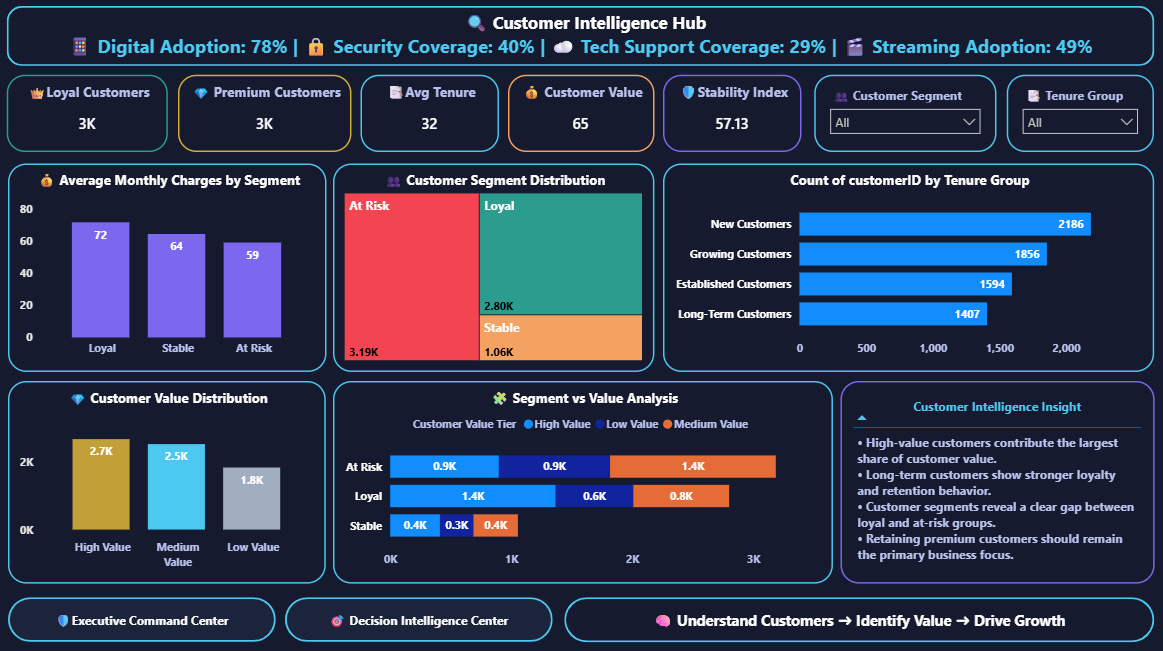

Layout of this report page (visuals, bound fields, positions):
{"tool":"powerbi","page":{"name":"🔍Customer Intelligence Hub","canvas":[1280,720],"ordinal":1},"visuals":[{"type":"textbox","box":[9.6,11,1270.7,42.5],"z":0},{"type":"cardVisual","fields":{"Data":["page 2.Customer Intelligence Bar"]},"box":[4.1,20.6,1270.7,65.9],"z":1000},{"type":"shape","box":[9.6,11,1259.7,65.9],"z":2000},{"type":"cardVisual","title":"👑Loyal Customers","fields":{"Data":["page 2.Loyal Customers"]},"box":[9.6,86.4,177,85.1],"z":3000},{"type":"cardVisual","title":"💎 Premium Customers","fields":{"Data":["page 2.High Value Customers"]},"box":[197.6,86.4,190.7,85.1],"z":4000},{"type":"cardVisual","title":"📑Avg Tenure","fields":{"Data":["page 2.Avg Tenure"]},"box":[397.9,86.4,152.3,85.1],"z":5000},{"type":"cardVisual","title":"💰 Customer Value","fields":{"Data":["page 2.Avg Revenue Per Customer"]},"box":[559.9,86.4,160.5,85.1],"z":6000},{"type":"cardVisual","title":"🛡️Stability Index","fields":{"Data":["page 2.Customer Stability Index"]},"box":[730,86.4,152.3,85.1],"z":7000},{"type":"slicer","fields":{"Values":["Telco-Customer-Churn.Customer Segment"]},"box":[896.1,86.4,200.3,85.1],"z":8000},{"type":"slicer","fields":{"Values":["Telco-Customer-Churn.Tenure Group"]},"box":[1107.4,86.4,161.9,85.1],"z":9000},{"type":"clusteredColumnChart","title":"💎 Customer Value Distribution","fields":{"Category":["Telco-Customer-Churn.Customer Value Tier"],"Y":["CountNonNull(Telco-Customer-Churn.customerID)"]},"box":[11,422.6,348.5,222.3],"z":10000},{"type":"treemap","title":"👥 Customer Segment Distribution","fields":{"Group":["Telco-Customer-Churn.Customer Segment"],"Values":["CountNonNull(Telco-Customer-Churn.customerID)"]},"box":[367.8,183.9,352.7,229.2],"z":11000},{"type":"clusteredBarChart","fields":{"Category":["Telco-Customer-Churn.Tenure Group"],"Y":["CountNonNull(Telco-Customer-Churn.customerID)"]},"box":[730,183.9,539.3,229.2],"z":12000},{"type":"clusteredColumnChart","title":"💰 Average Monthly Charges by Segment","fields":{"Category":["Telco-Customer-Churn.Customer Segment"],"Y":["Avg(Telco-Customer-Churn.MonthlyCharges)"]},"box":[11,183.9,349.9,229.2],"z":13000},{"type":"barChart","title":"🧩 Segment vs Value Analysis","fields":{"Category":["Telco-Customer-Churn.Customer Segment"],"Y":["CountNonNull(Telco-Customer-Churn.customerID)"],"Series":["Telco-Customer-Churn.Customer Value Tier"]},"box":[367.8,422.6,548.9,222.3],"z":14000},{"type":"tableEx","fields":{"Values":["page 2.Customer Intelligence Insight"]},"box":[924.9,422.6,344.4,222.3],"z":15000},{"type":"pageNavigator","box":[11,660,599.7,49.4],"z":16000},{"type":"textbox","box":[621.6,669.6,647.7,39.8],"z":17000},{"type":"shape","box":[621.6,660,647.7,49.4],"z":18000}]}

Visuals, with their boxes in screenshot pixels (x1, y1, x2, y2), scaled from the page's 1280x720 canvas onto the 1163x651 screenshot:
textbox: [9, 10, 1162, 48]
cardVisual - page 2.Customer Intelligence Bar: [4, 19, 1158, 78]
shape: [9, 10, 1153, 70]
"👑Loyal Customers" cardVisual: [9, 78, 170, 155]
"💎 Premium Customers" cardVisual: [180, 78, 353, 155]
"📑Avg Tenure" cardVisual: [362, 78, 500, 155]
"💰 Customer Value" cardVisual: [509, 78, 655, 155]
"🛡️Stability Index" cardVisual: [663, 78, 802, 155]
slicer - Telco-Customer-Churn.Customer Segment: [814, 78, 996, 155]
slicer - Telco-Customer-Churn.Tenure Group: [1006, 78, 1153, 155]
"💎 Customer Value Distribution" clusteredColumnChart: [10, 382, 327, 583]
"👥 Customer Segment Distribution" treemap: [334, 166, 655, 374]
clusteredBarChart - Telco-Customer-Churn.Tenure Group x CountNonNull(Telco-Customer-Churn.customerID): [663, 166, 1153, 374]
"💰 Average Monthly Charges by Segment" clusteredColumnChart: [10, 166, 328, 374]
"🧩 Segment vs Value Analysis" barChart: [334, 382, 833, 583]
tableEx - page 2.Customer Intelligence Insight: [840, 382, 1153, 583]
pageNavigator: [10, 597, 555, 641]
textbox: [565, 605, 1153, 641]
shape: [565, 597, 1153, 641]
